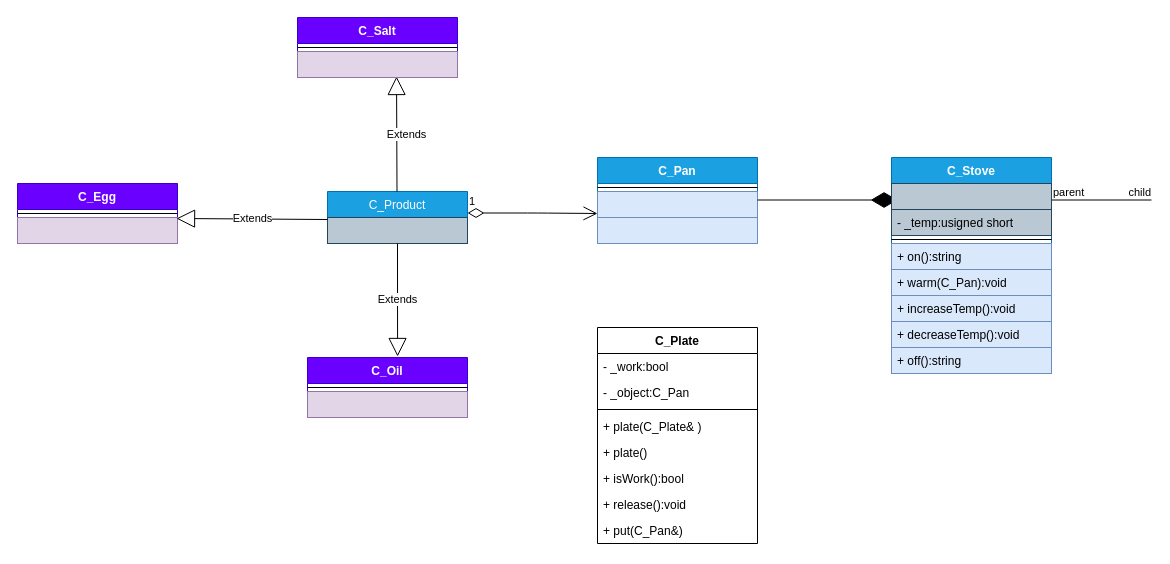
Image size: 1170x564. Some labels were removed from this diagram. The centre of each missing label's shape, as x and y in pixels:
+ break():void: the point at 97,230
+ cook(C_Product): the point at 677,204
+ heat():void: the point at 677,230
+ pour():void: the point at 387,404
+ salt():void: the point at 377,64
- _plate:vector(C_Plate): the point at 971,196
- _weigt:unsigned short: the point at 397,230
